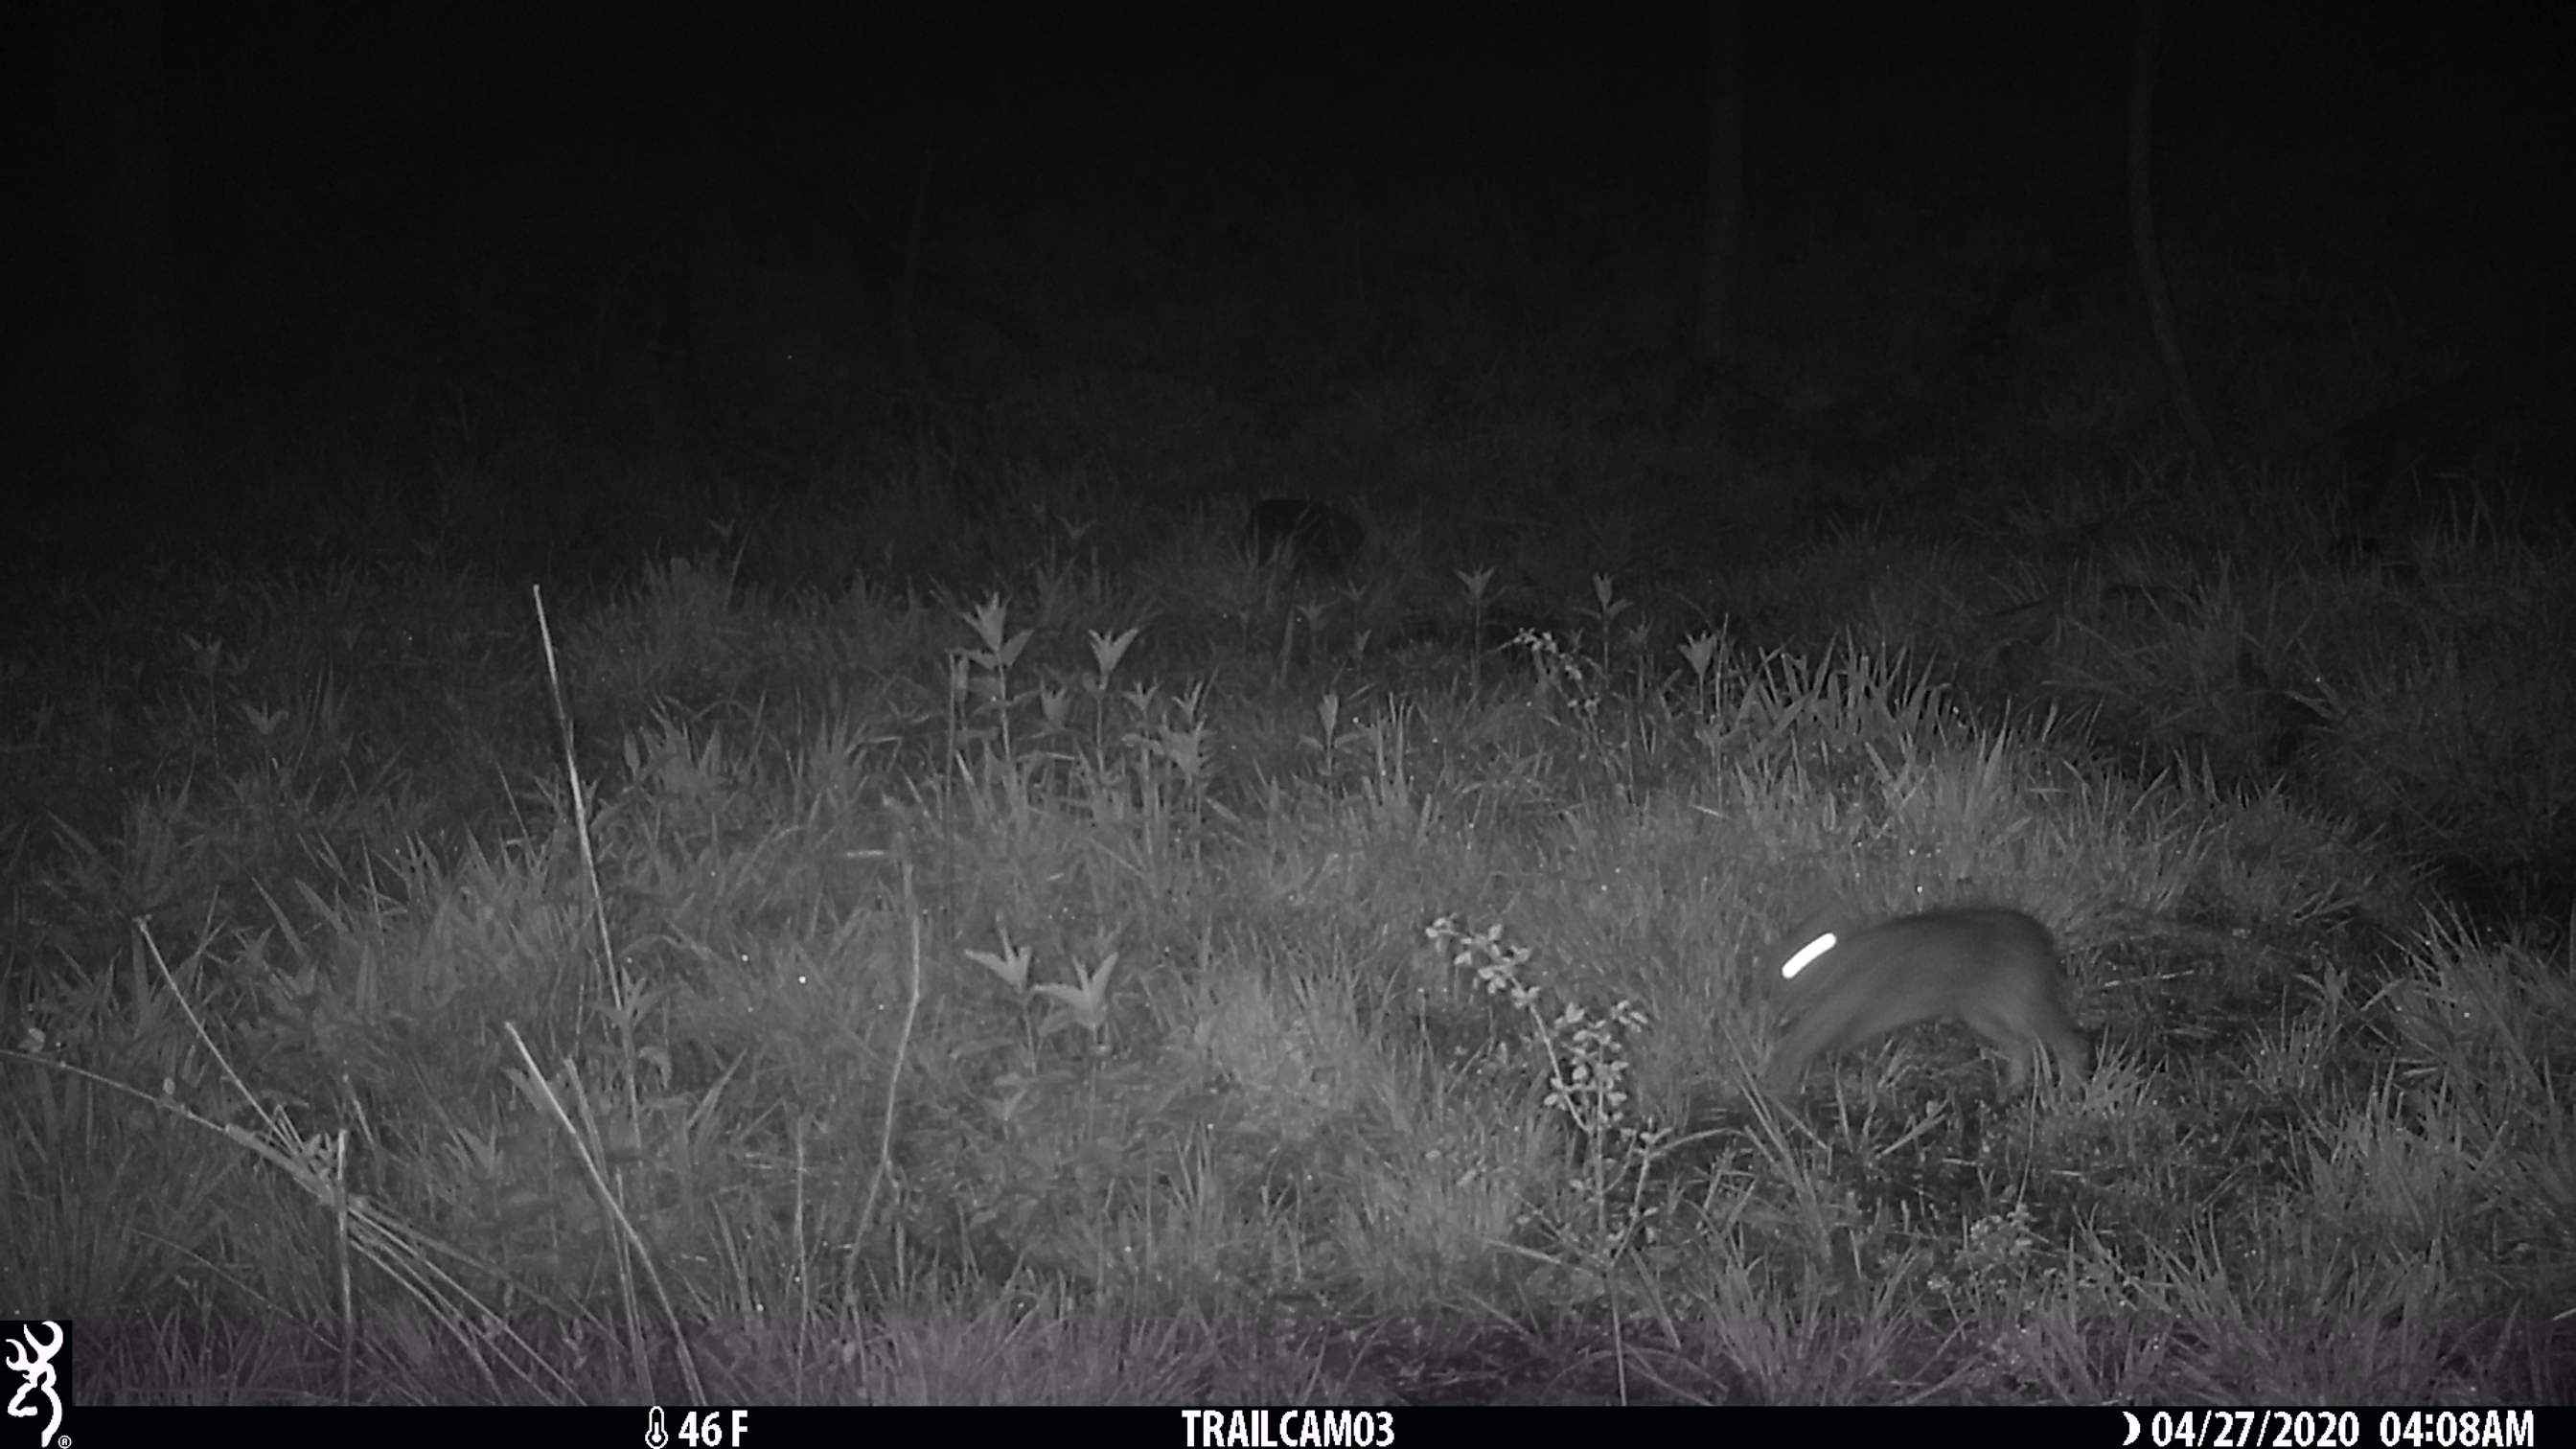Rabbit: (1744, 895, 2095, 1109)
